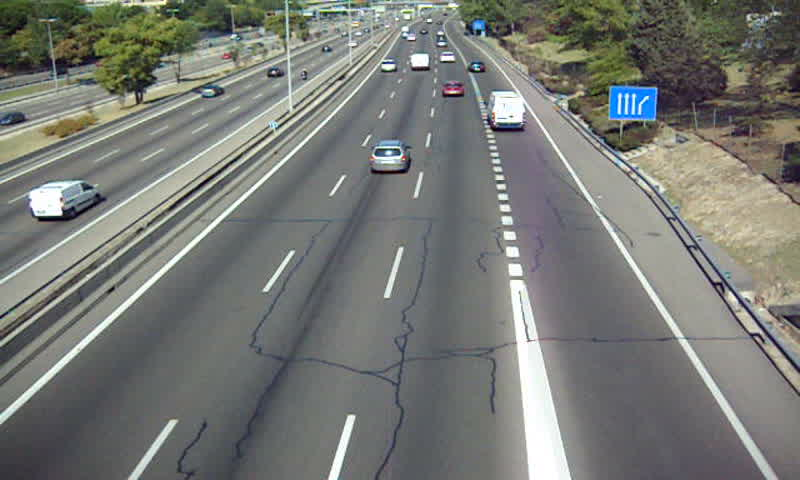car: (371, 140, 411, 173), (441, 80, 464, 99), (467, 60, 485, 75), (379, 60, 396, 73), (439, 51, 453, 64)
van: (487, 91, 526, 130), (409, 53, 429, 69)
